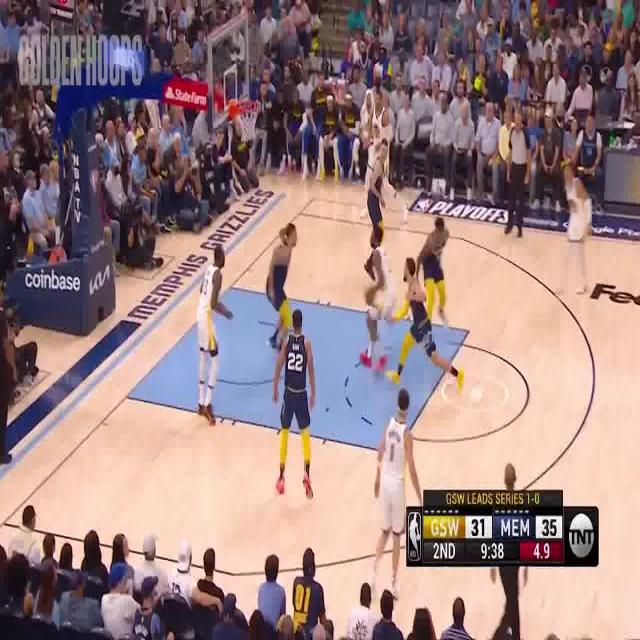ball-handler: (357, 219, 399, 381)
